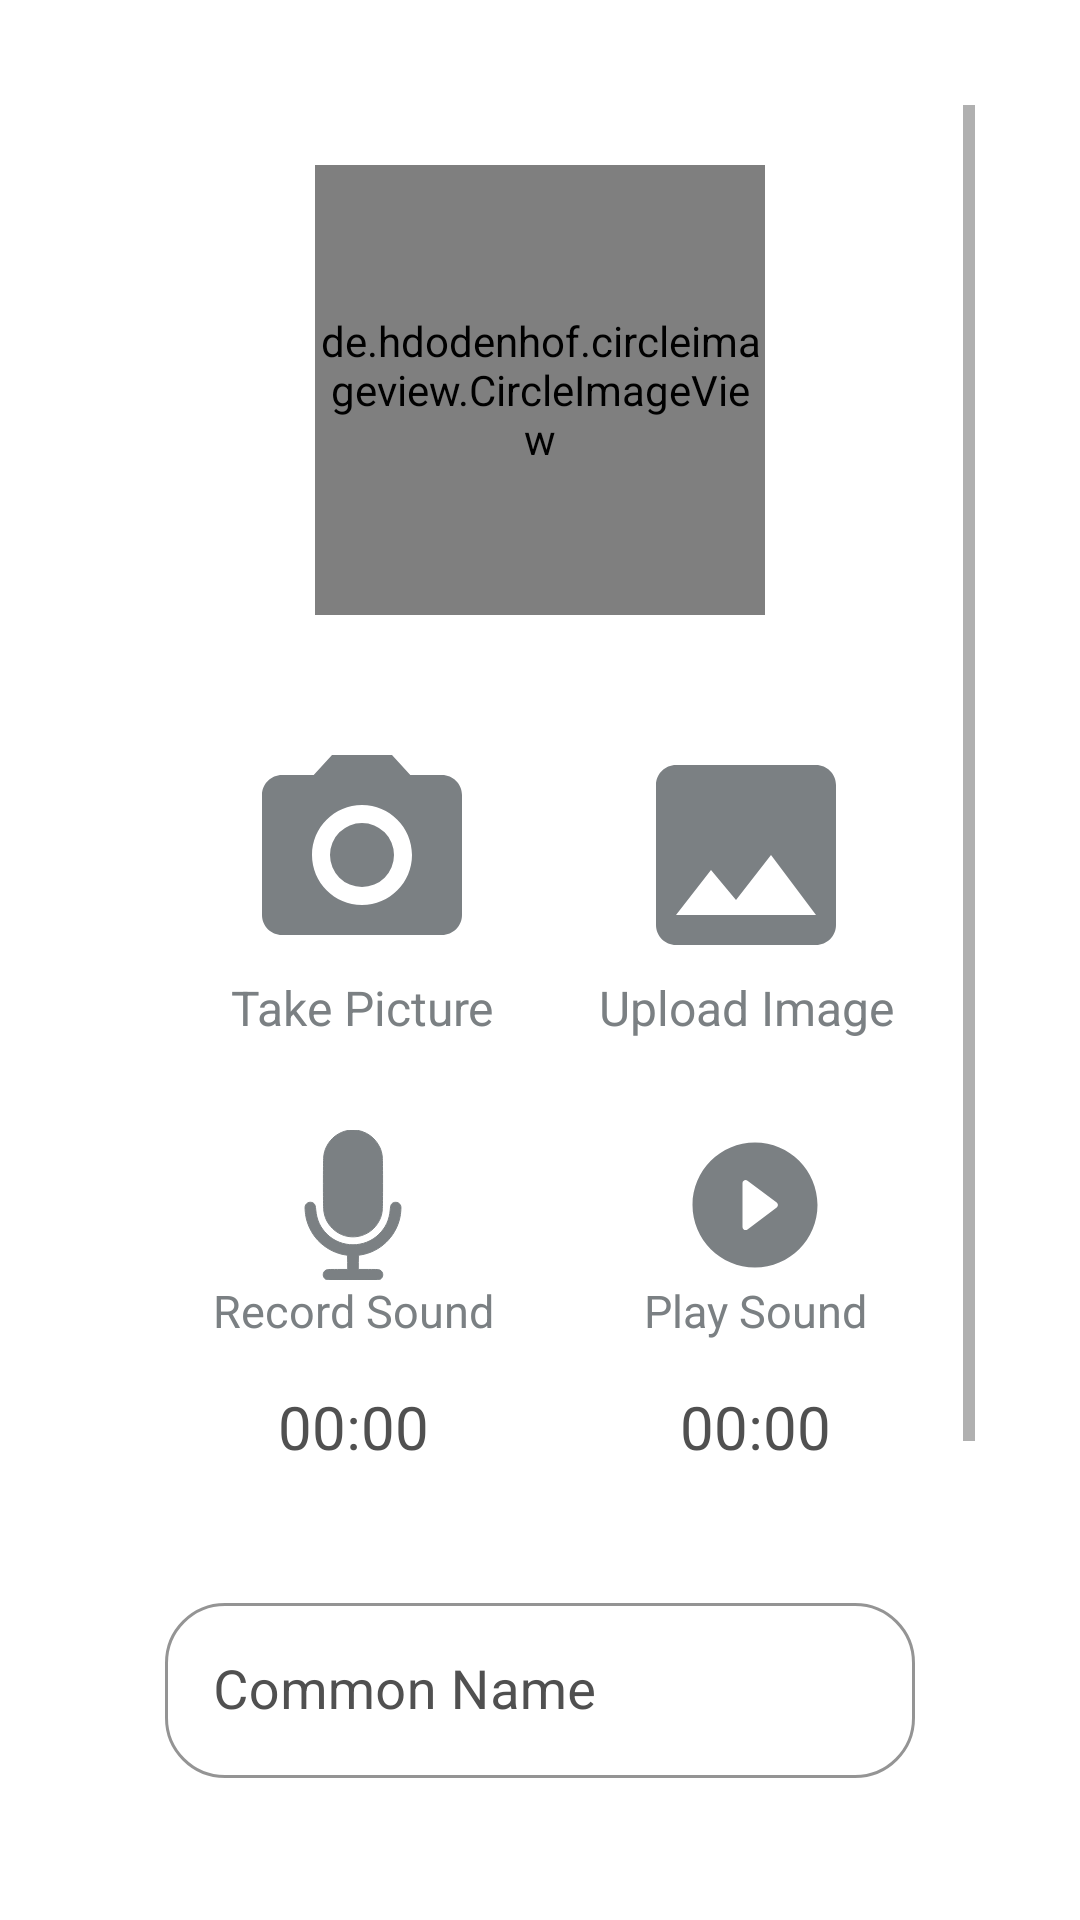

Icon click points for this 1080×1920 phone screenshot, format point (x, y):
photo camera: point (362, 845)
